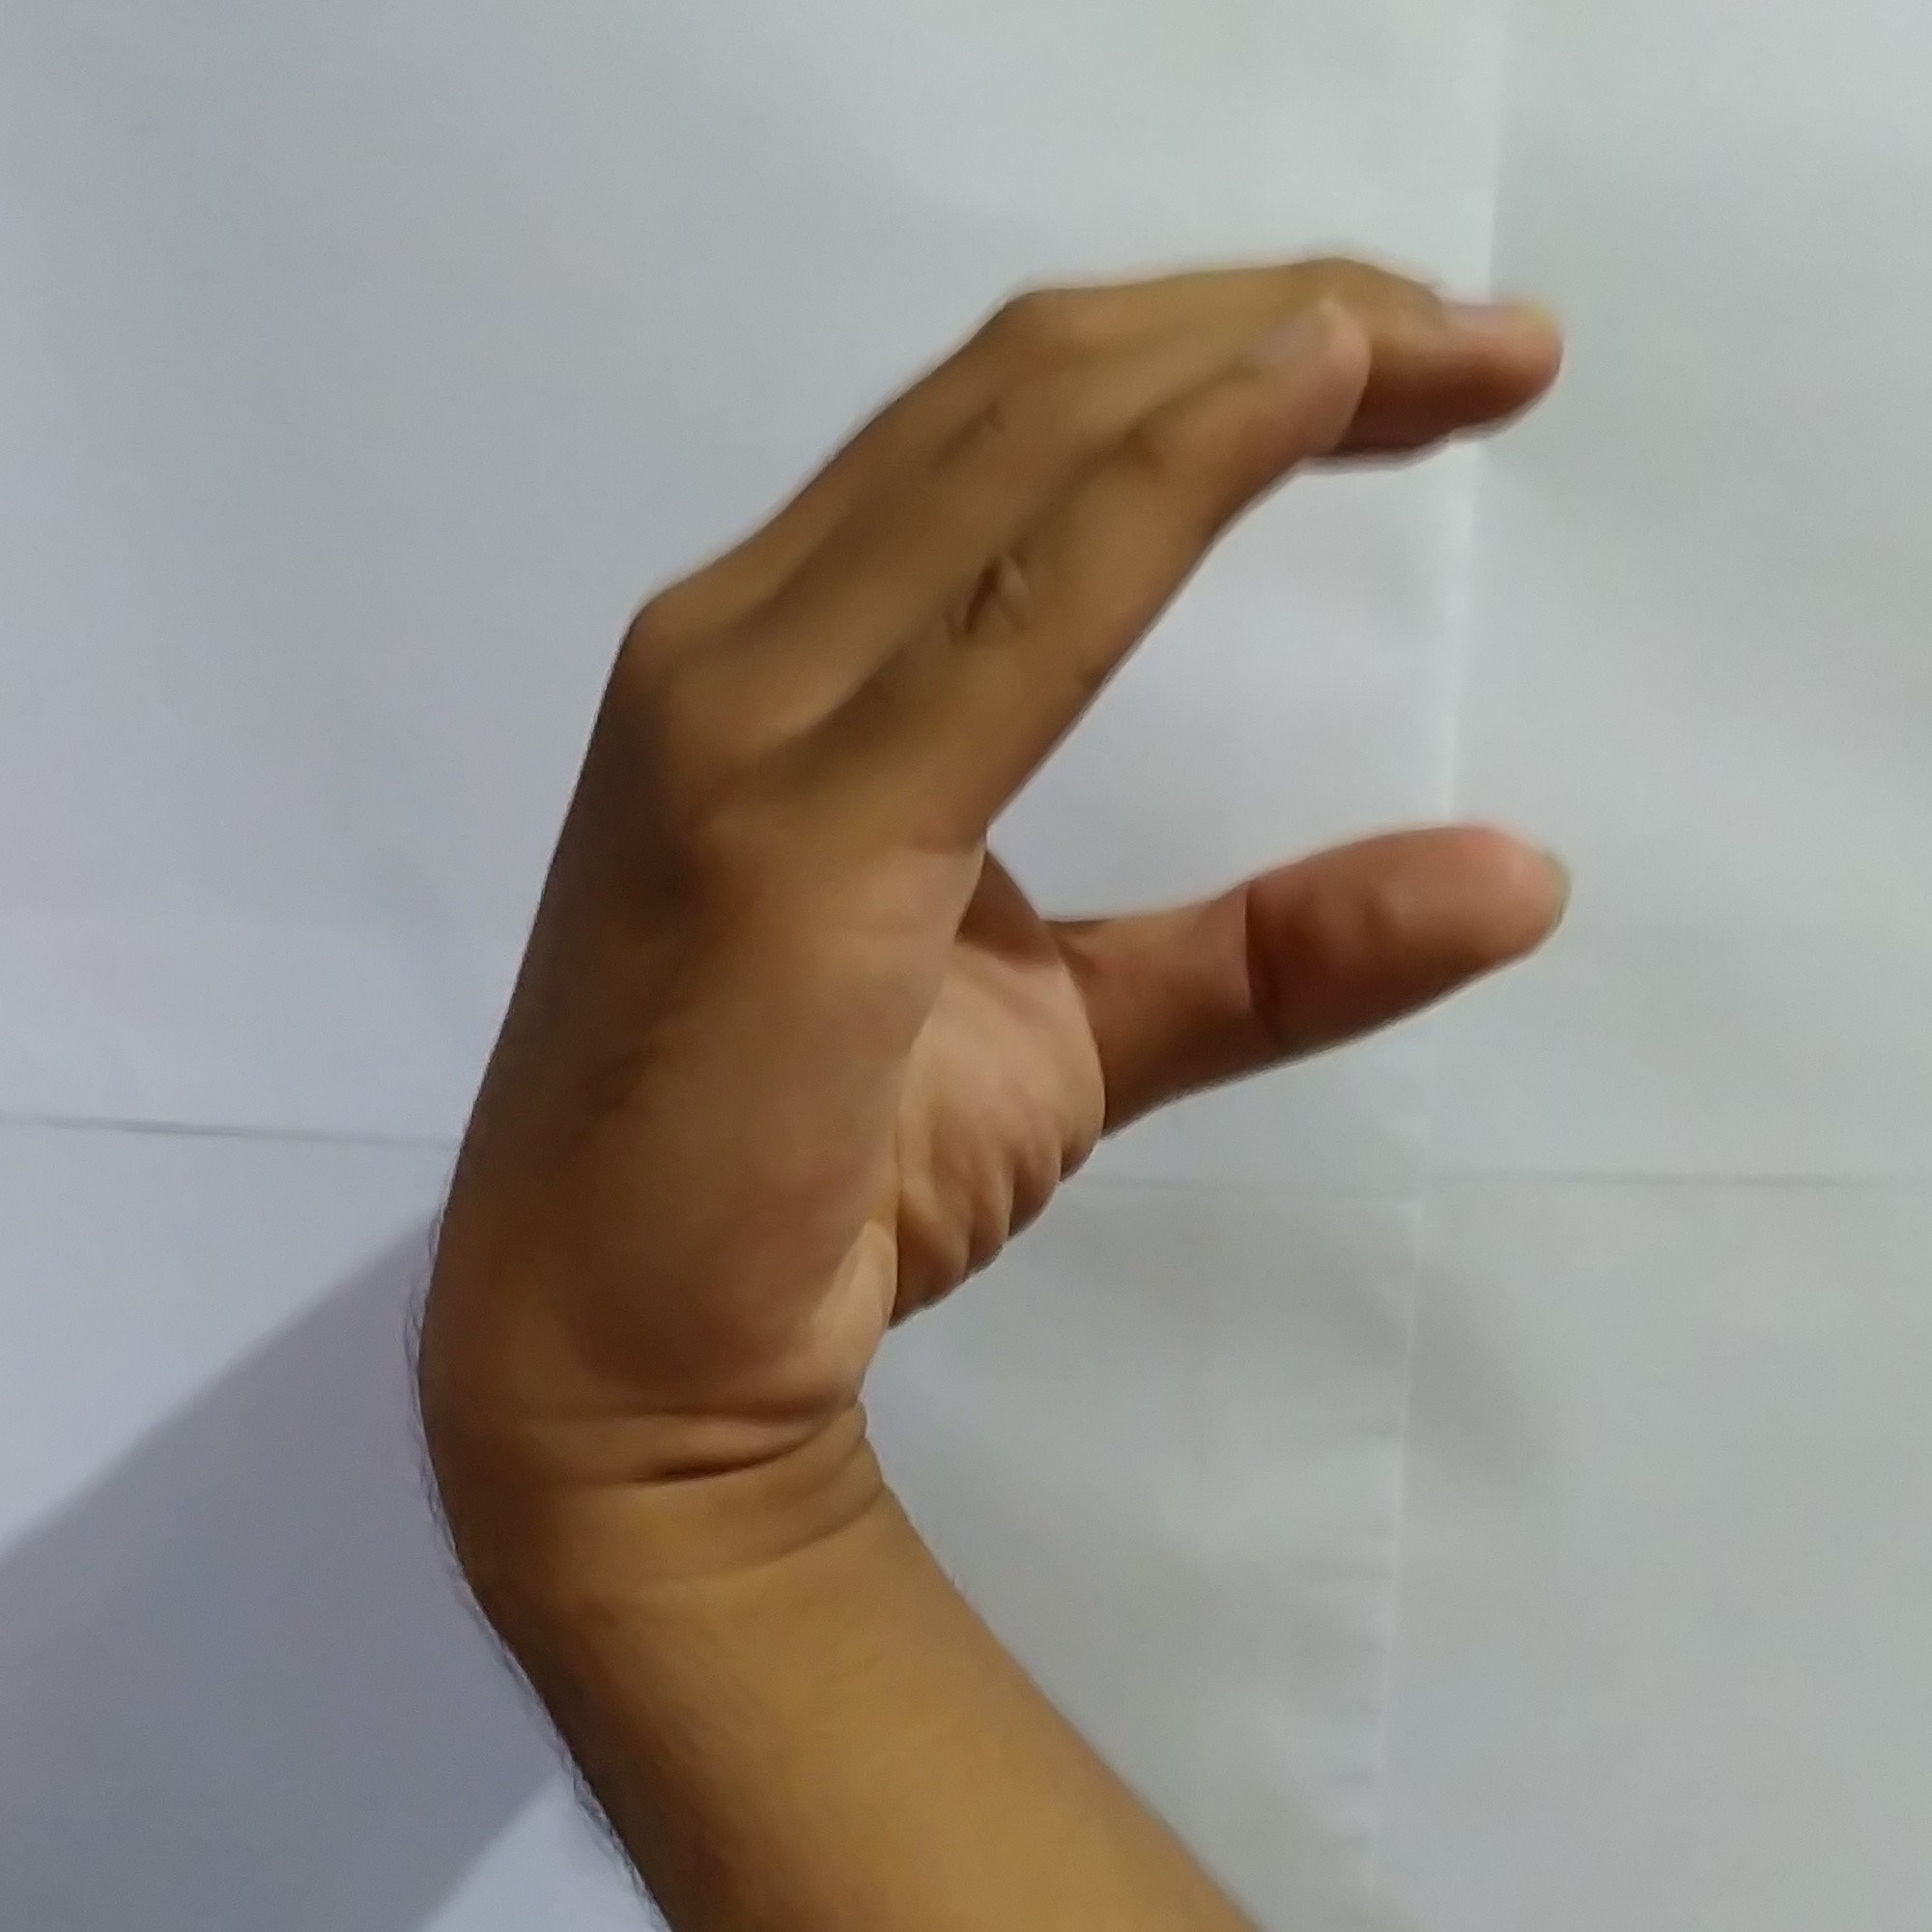C: (442, 228, 1598, 1419)
